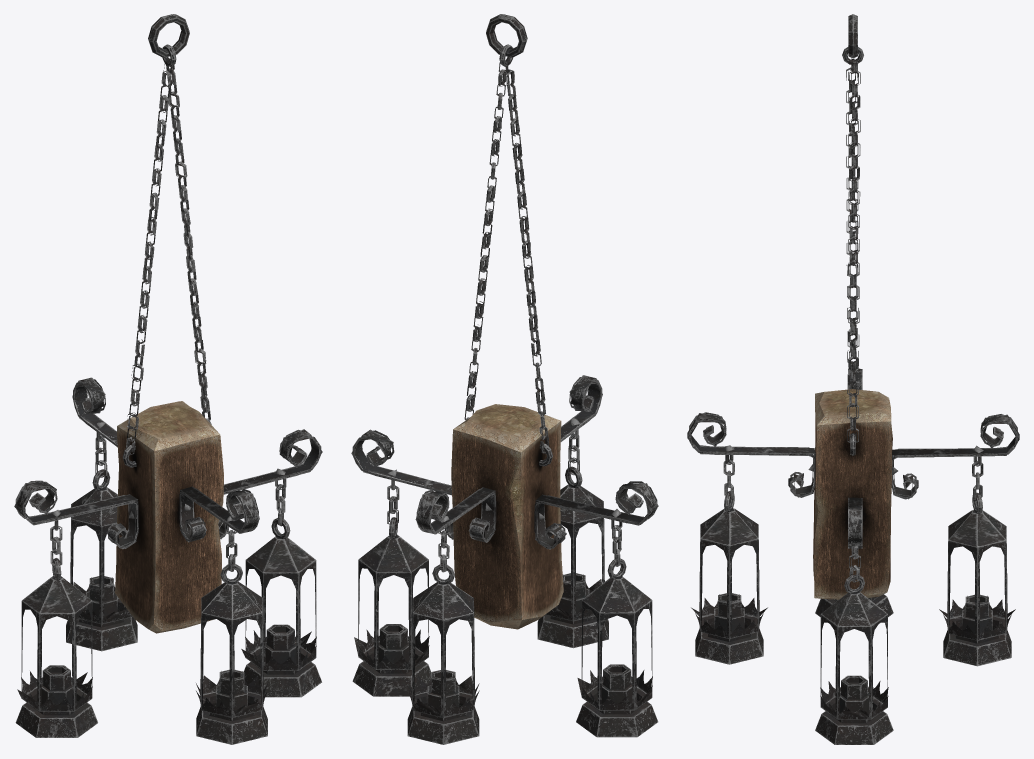
File: Swing Lamp.glb
3 renders of one model, left to right at view 1: azimuth 30°, elevation 25°; view 2: azimuth 150°, elevation 25°; view 3: azimuth 270°, elevation 25°, orthographic. The views are drawn at different scales.
Visible parts, largest first — view 1: Lantern B Wood base, Lantern B 3, Lantern B 4, Lantern B 1, Lantern B 2, Lantern B chain; view 2: Lantern B Wood base, Lantern B 3, Lantern B 2, Lantern B 1, Lantern B 4, Lantern B chain; view 3: Lantern B Wood base, Lantern B 4, Lantern B 2, Lantern B 1, Lantern B chain, Lantern B 3.
Part boxes in pixels (left/top/right/bottom): Lantern B Wood base: left=115, top=401, right=223, bottom=633; Lantern B 3: left=14, top=480, right=138, bottom=737; Lantern B 4: left=179, top=486, right=267, bottom=744; Lantern B 1: left=218, top=429, right=322, bottom=697; Lantern B 2: left=66, top=377, right=137, bottom=651; Lantern B chain: left=122, top=14, right=211, bottom=467; Lantern B Wood base: left=451, top=404, right=563, bottom=629; Lantern B 3: left=534, top=481, right=658, bottom=737; Lantern B 2: left=407, top=487, right=496, bottom=744; Lantern B 1: left=351, top=429, right=453, bottom=696; Lantern B 4: left=537, top=375, right=608, bottom=648; Lantern B chain: left=464, top=14, right=552, bottom=466; Lantern B Wood base: left=813, top=389, right=892, bottom=599; Lantern B 4: left=687, top=412, right=815, bottom=664; Lantern B 2: left=891, top=414, right=1019, bottom=666; Lantern B 1: left=815, top=497, right=893, bottom=744; Lantern B chain: left=842, top=14, right=863, bottom=455; Lantern B 3: left=815, top=368, right=893, bottom=623.
Bounding box in the file's own units: 0.6522 × 1.44 × 0.6557.
Materials: 3 (3 with a texture image).
